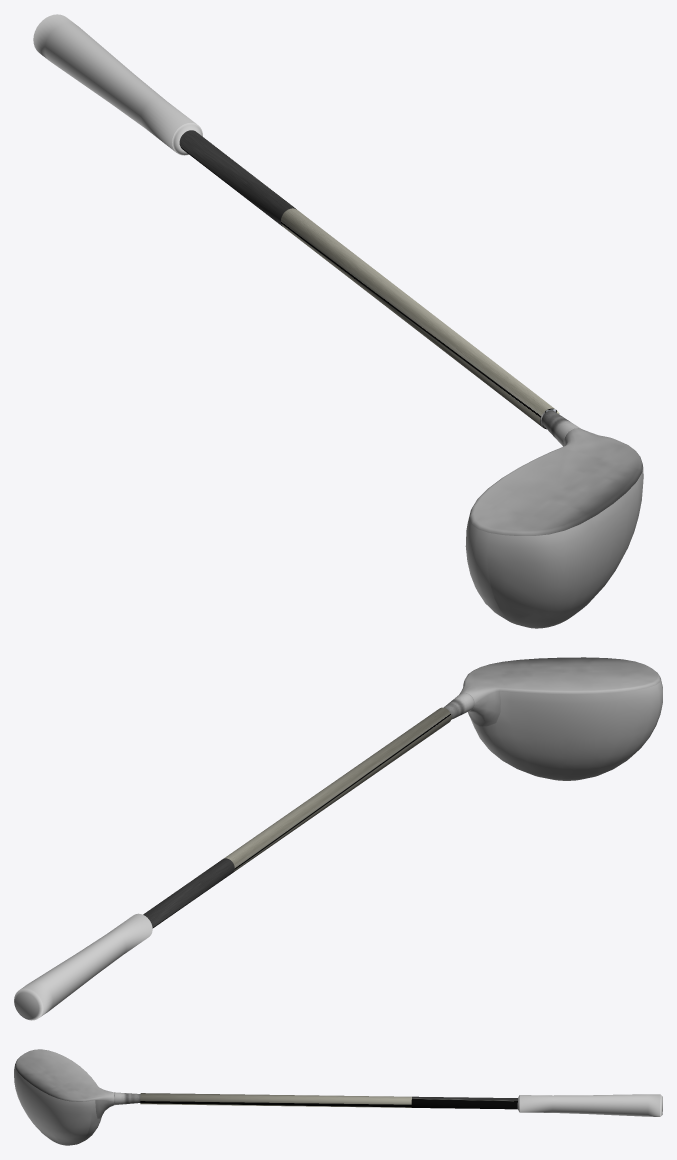
File: Golf Club.fbx
3 views of the same model, one above another, from view 1: azimuth 30°, elevation 25°; view 2: azimuth 150°, elevation 25°; view 3: azimuth 270°, elevation 25° (orthographic). The views are drawn at different scales.
Visible parts, largest first — view 1: Club; view 2: Club; view 3: Club.
Part boxes in pixels (<box>): Club: <box>33,14,643,628</box>; Club: <box>14,657,662,1020</box>; Club: <box>14,1049,662,1145</box>.
Size of the model in its own units: 556 by 334 by 2792.
